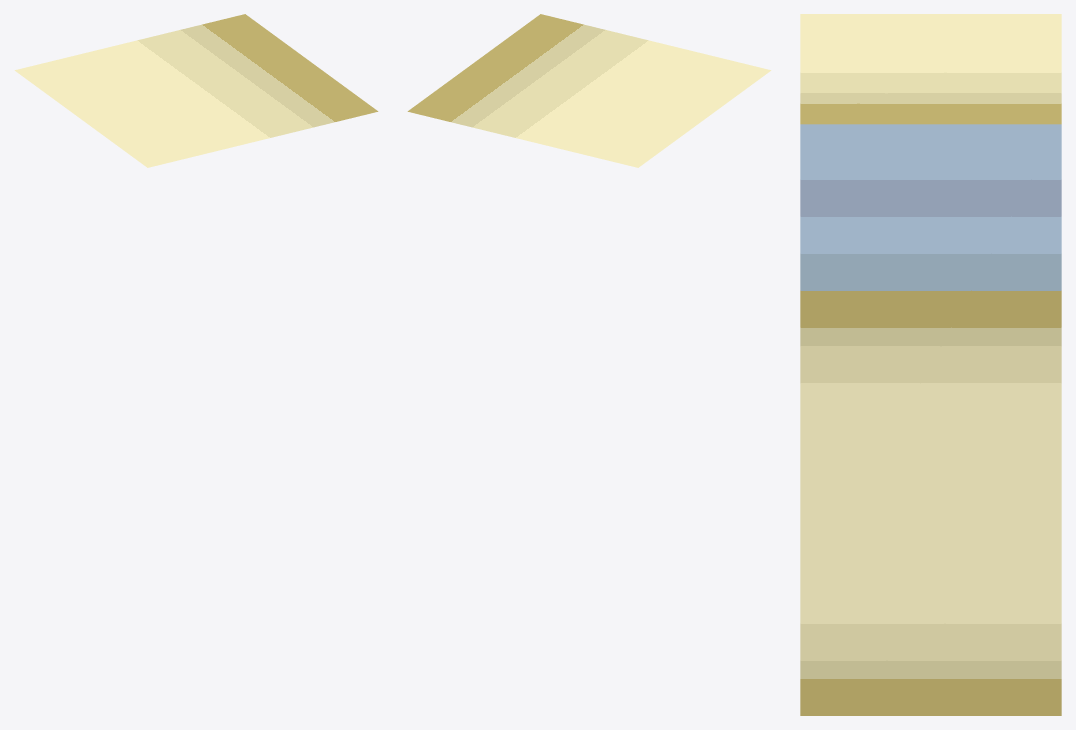
The picture shows the model from 3 angles, left to right: view 1: azimuth 30°, elevation 25°; view 2: azimuth 150°, elevation 25°; view 3: azimuth 270°, elevation 25°; orthographic projection. The views are drawn at different scales.
Bounding box in the file's own units: 1 × 2.5 × 1.
1 material, 1 textured.
